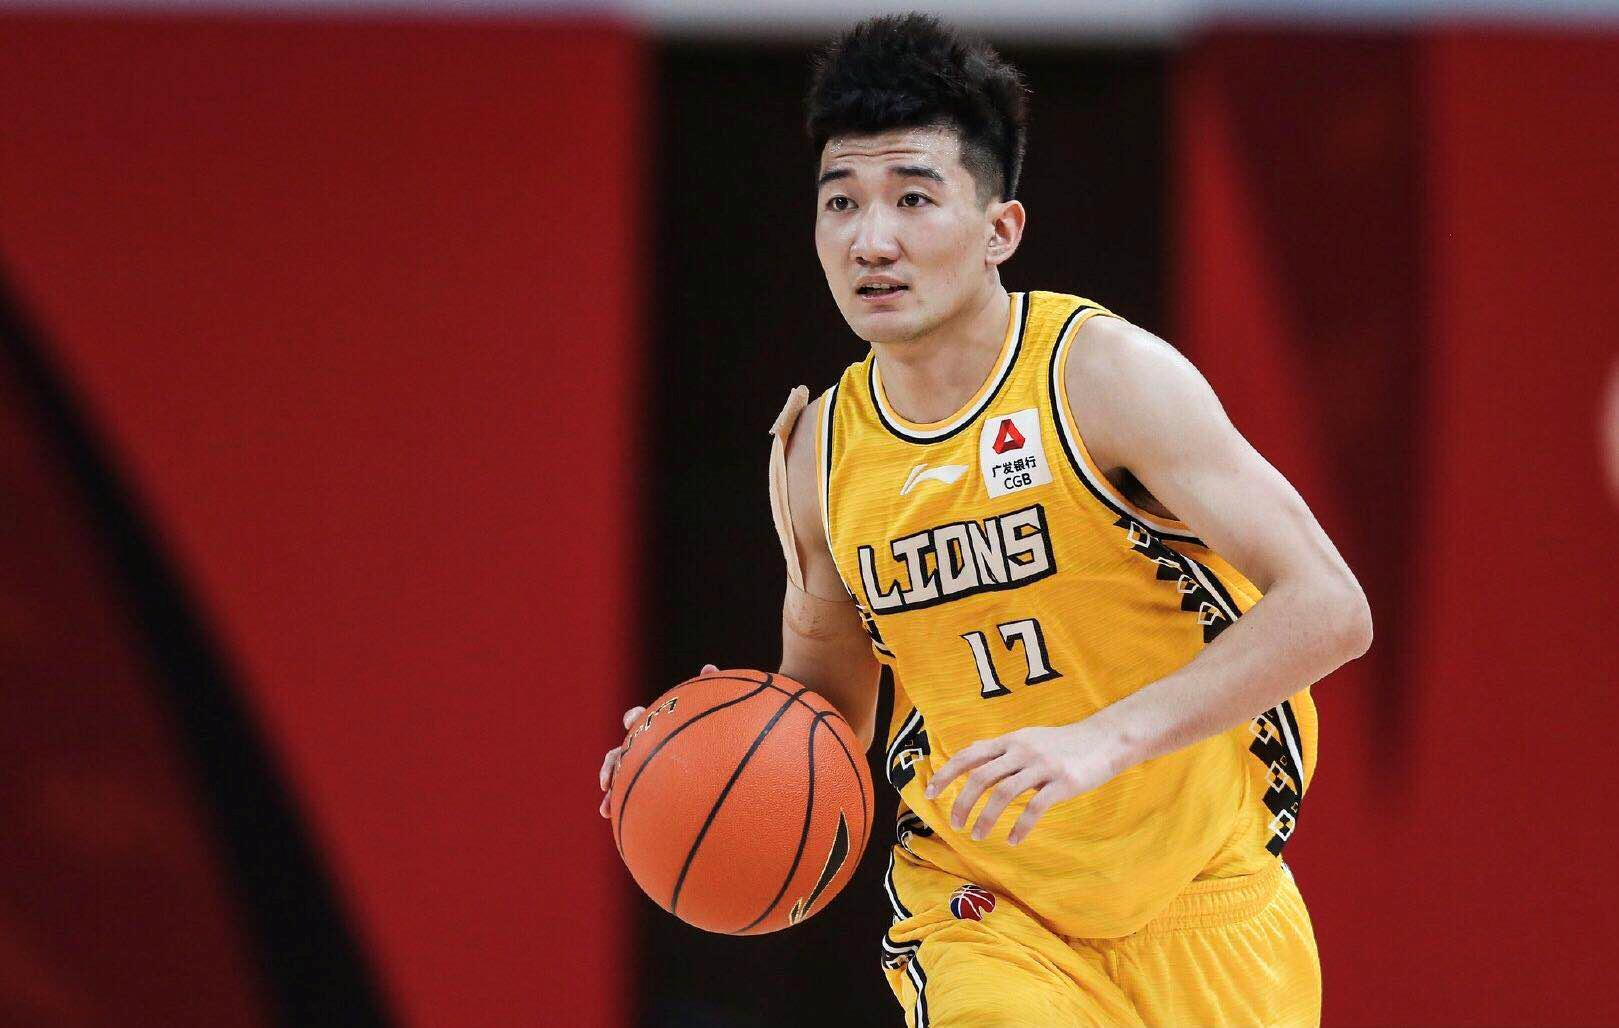ball: (610, 668, 877, 937)
